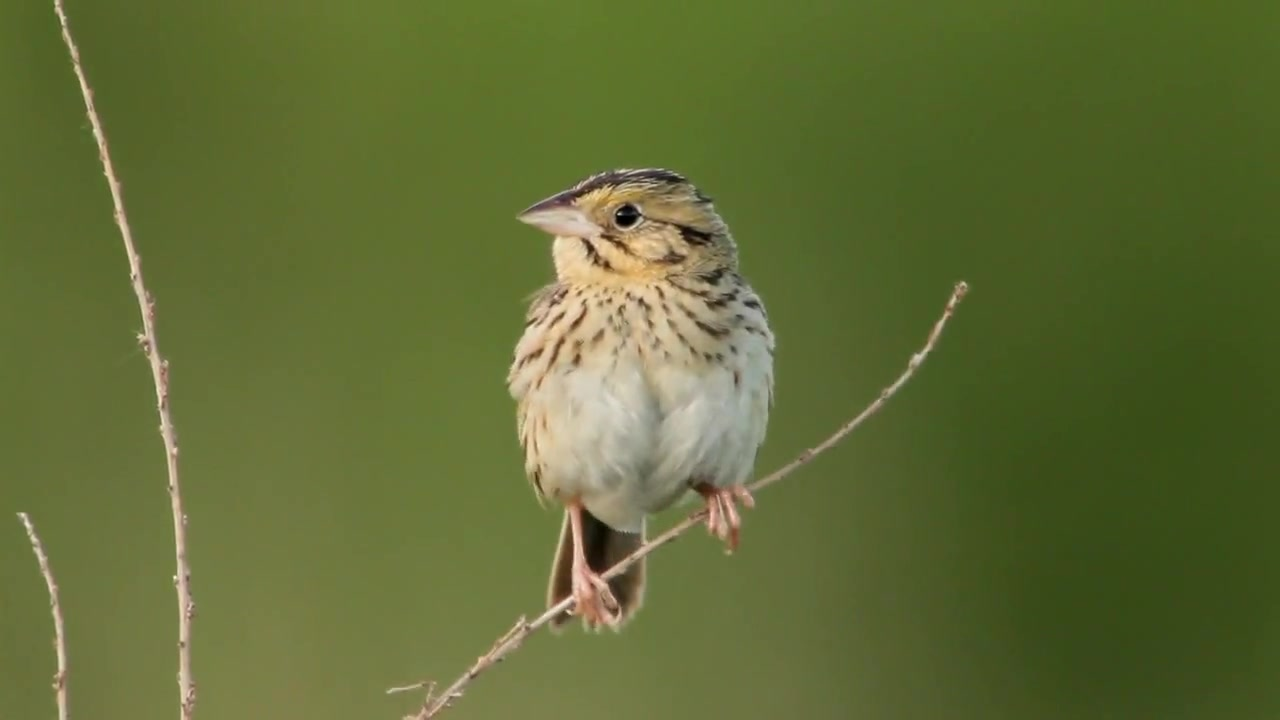bird: (506, 167, 777, 639)
